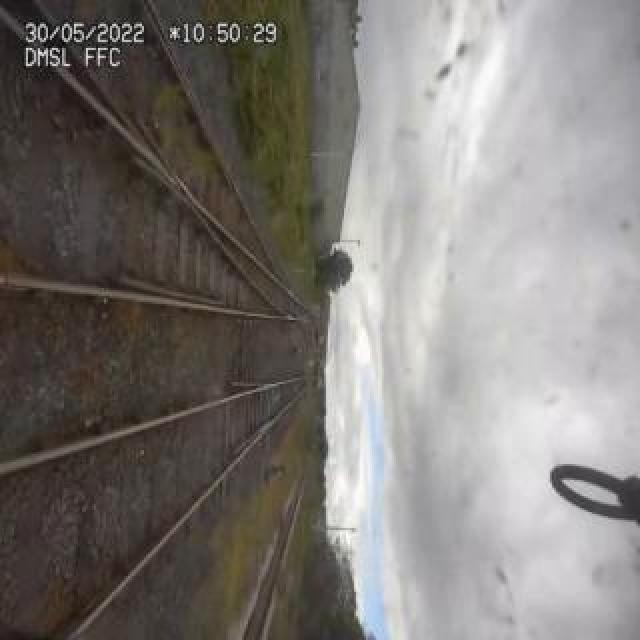rusted-track: (119, 274, 231, 308)
